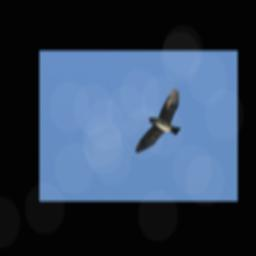Swallow: (131, 87, 187, 154)
